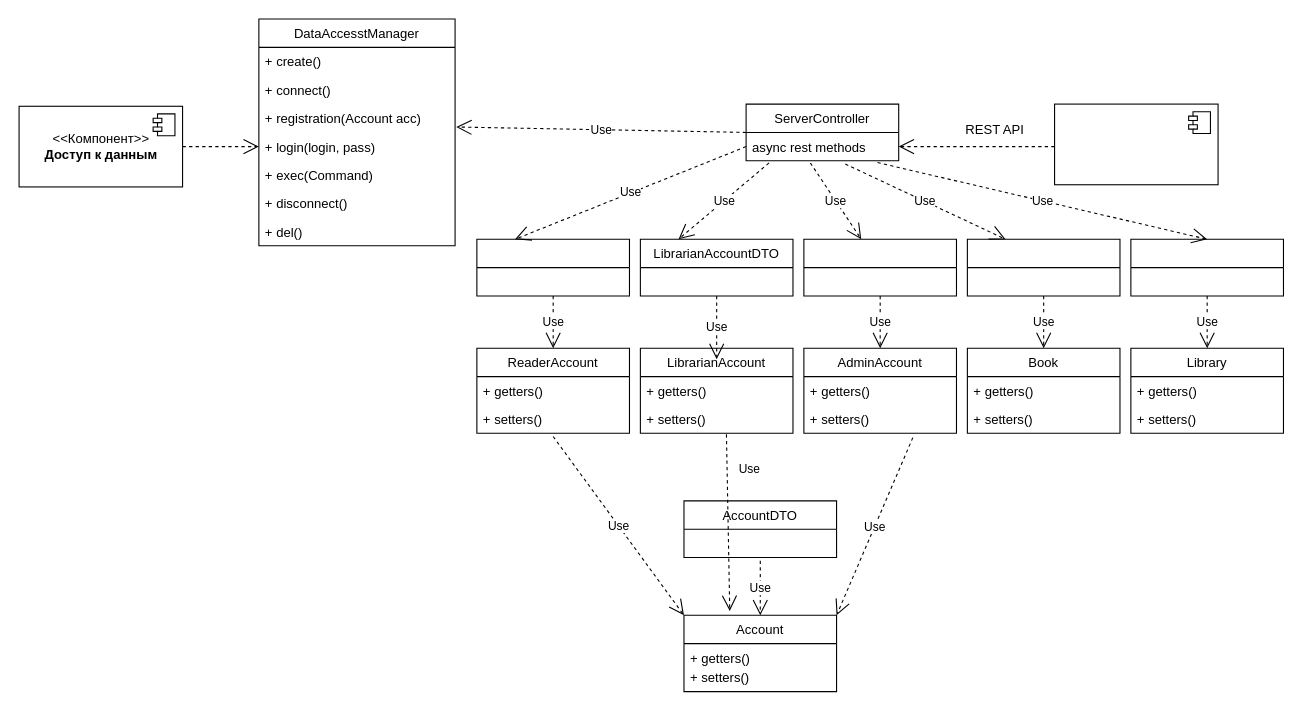
This 1303x714 diagram has some shape labels left out. Each missing label, with the centre of its shape:
"<<Компонент>> Интерфейс" belongs at (1135,144).
"AdminAccountDTO" belongs at (879,267).
"BookDTO" belongs at (1043,267).
"LibraryDTO" belongs at (1206,267).
"ReaderAccountDTO" belongs at (552,267).
